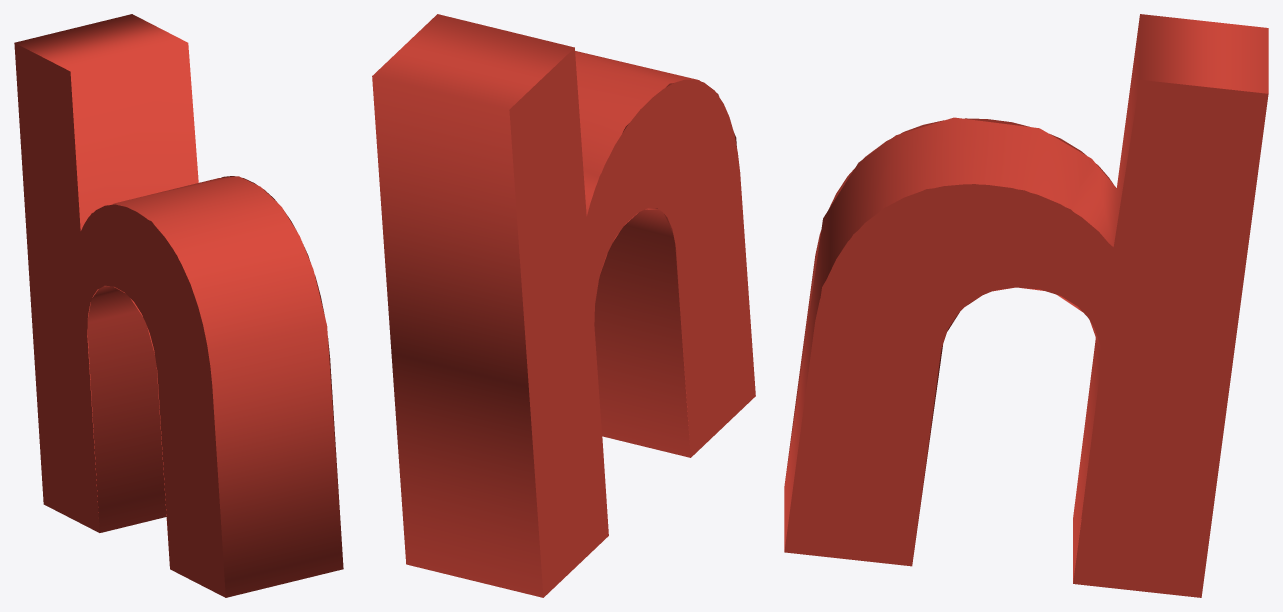
The picture shows the model from 3 angles, left to right: view 1: azimuth 30°, elevation 25°; view 2: azimuth 150°, elevation 25°; view 3: azimuth 270°, elevation 25°; orthographic projection. The views are drawn at different scales.
Parts seen in each view (by area): view 1: Text.016; view 2: Text.016; view 3: Text.016.
Boxes of the visible parts, x1=… form: Text.016: x1=14, y1=14, x2=343, y2=597; Text.016: x1=372, y1=14, x2=755, y2=597; Text.016: x1=784, y1=14, x2=1268, y2=597.
Size of the model in its own units: 0.7869 by 2.89 by 2.45.
